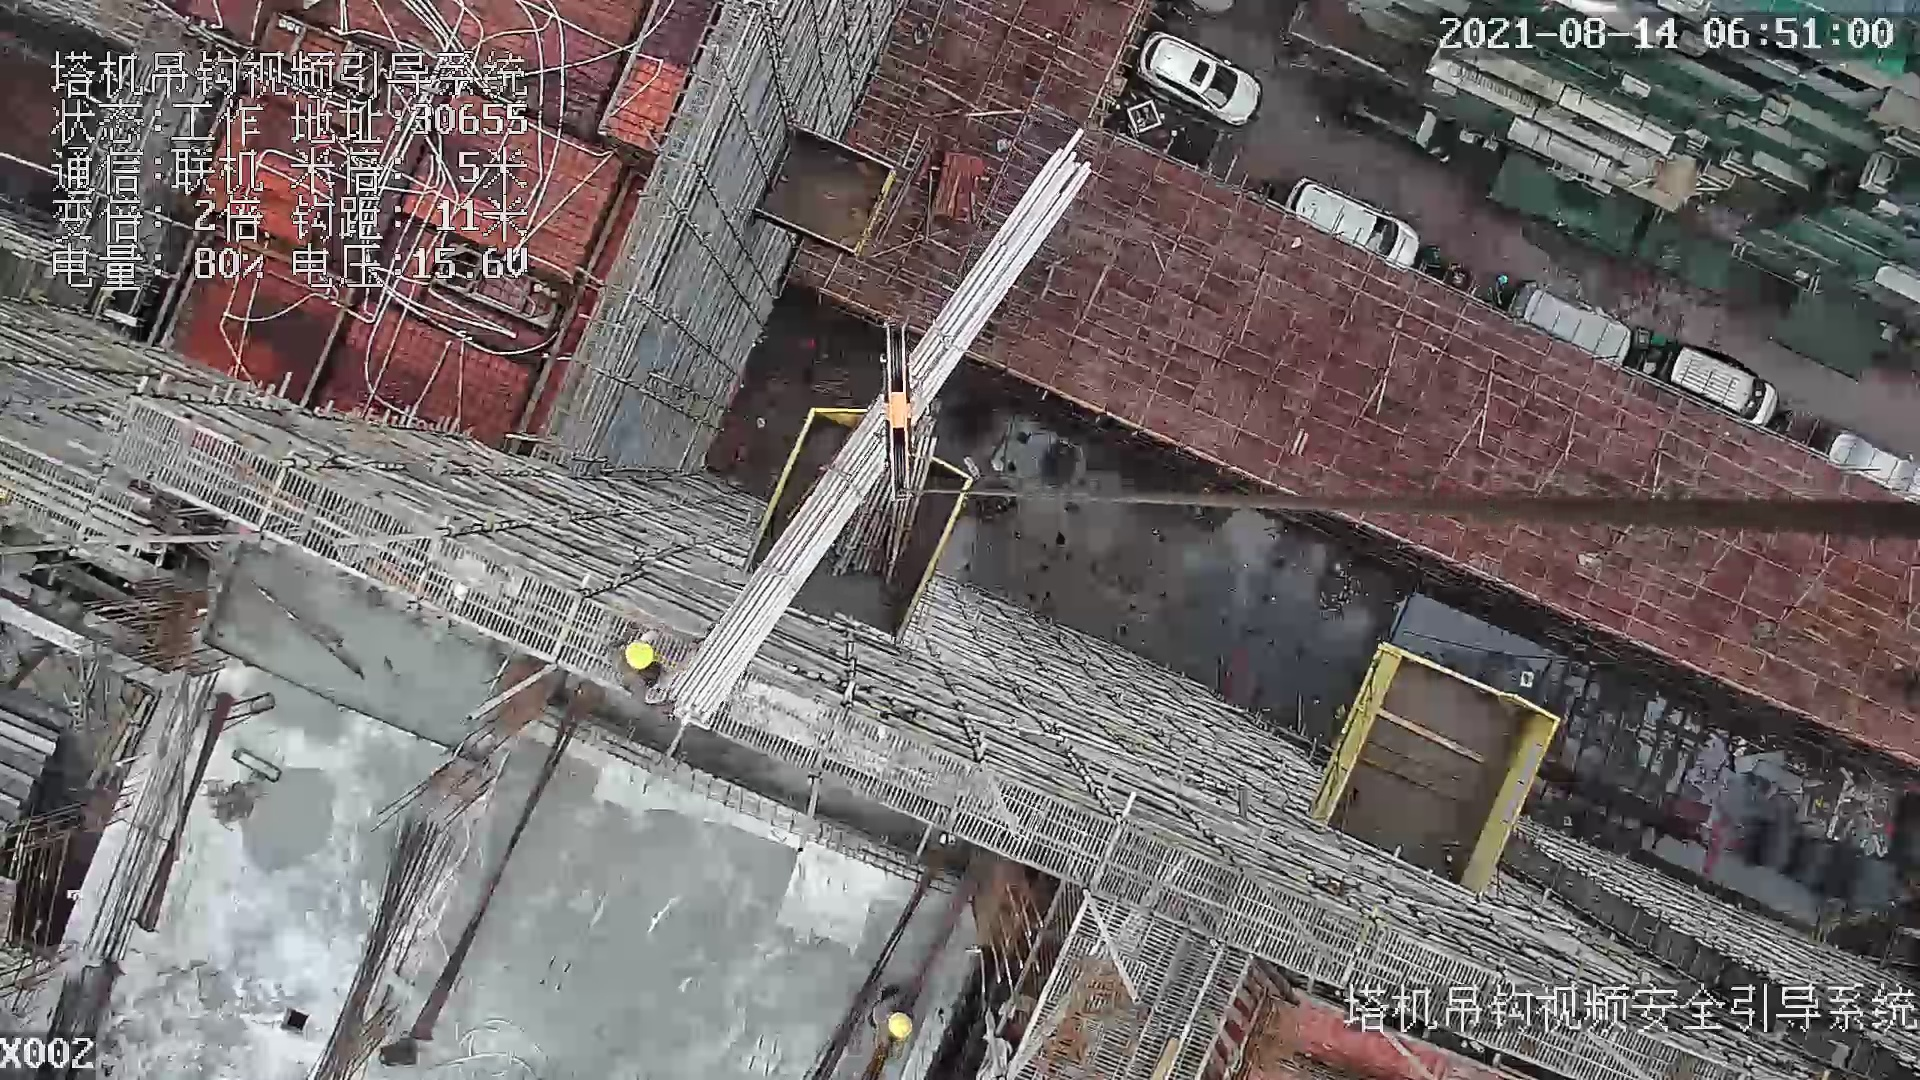helmet: (884, 1010, 921, 1055), (620, 639, 658, 670)
hook: (865, 312, 928, 513)
person: (865, 973, 919, 1047), (610, 628, 673, 689)
